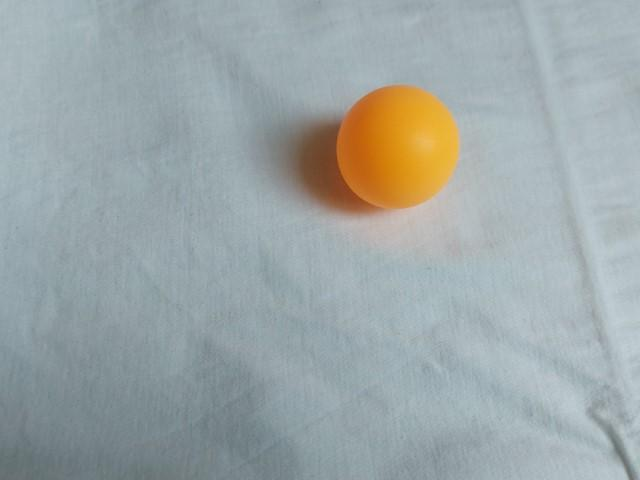oball: (328, 84, 468, 217)
